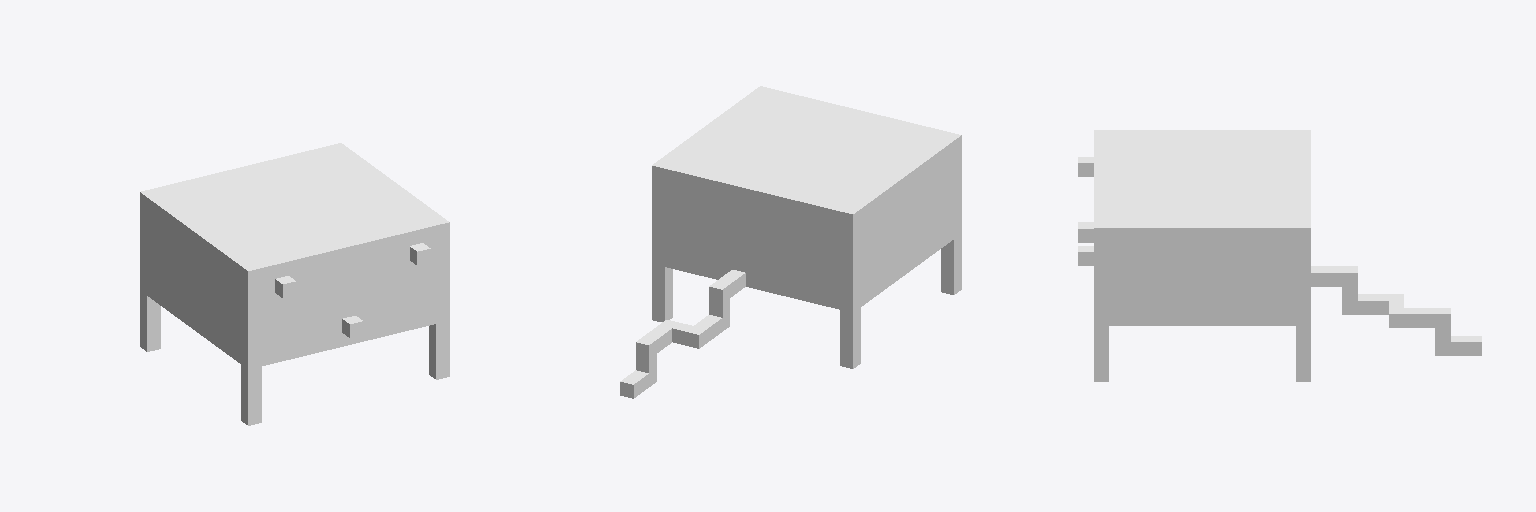
The model's file is power_Generator_V1.obj.
3 views of the same model, side by side, from view 1: azimuth 30°, elevation 25°; view 2: azimuth 150°, elevation 25°; view 3: azimuth 270°, elevation 25° (orthographic).
Visible parts, largest first — view 1: power_Generator_V1; view 2: power_Generator_V1; view 3: power_Generator_V1.
Part boxes in pixels (left/top/right/bottom): power_Generator_V1: left=140, top=143, right=449, bottom=425; power_Generator_V1: left=620, top=86, right=961, bottom=398; power_Generator_V1: left=1078, top=130, right=1481, bottom=381.
Size of the model in its own units: 15 by 11 by 26.